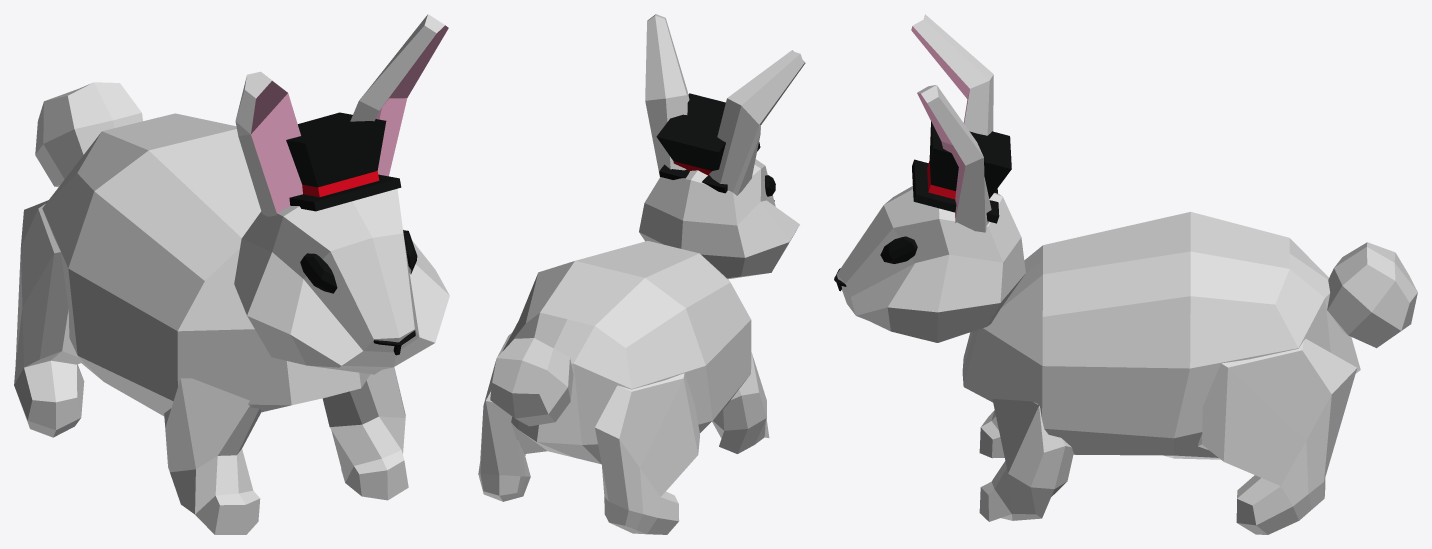
File: lowPolyBunny.fbx
3 views of the same model, side by side, from view 1: azimuth 30°, elevation 25°; view 2: azimuth 150°, elevation 25°; view 3: azimuth 270°, elevation 25° (orthographic). The views are drawn at different scales.
Parts seen in each view (by area): view 1: Cube; view 2: Cube; view 3: Cube.
Boxes of the visible parts, box(x1,y1,x2,y2) form: Cube: box(14, 14, 449, 534); Cube: box(478, 14, 805, 534); Cube: box(834, 14, 1417, 534).
Bounding box in the file's own units: 57.31 × 104 × 124.
